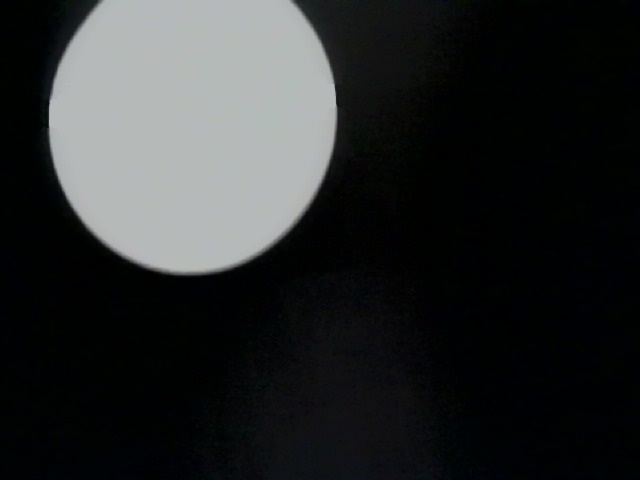KHSLJ: (125, 325, 630, 480)
